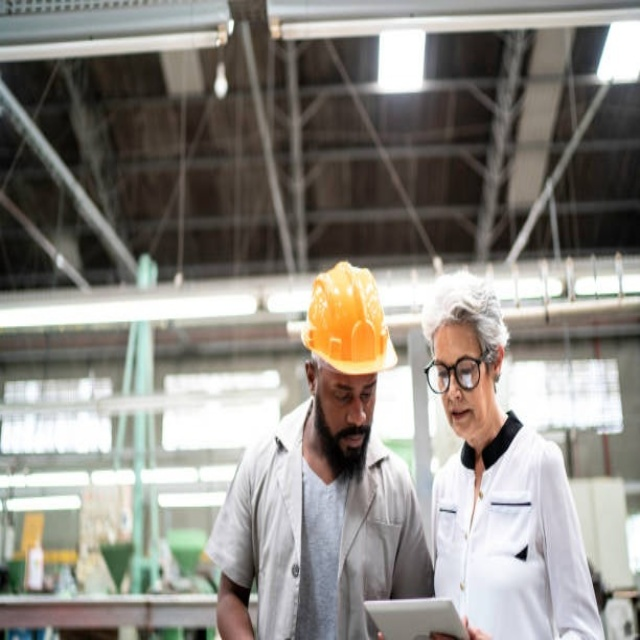Gafas: (424, 345, 492, 387)
Sin_gafas: (324, 380, 378, 413)
Sin_mascara: (445, 400, 477, 436), (335, 424, 367, 452)
